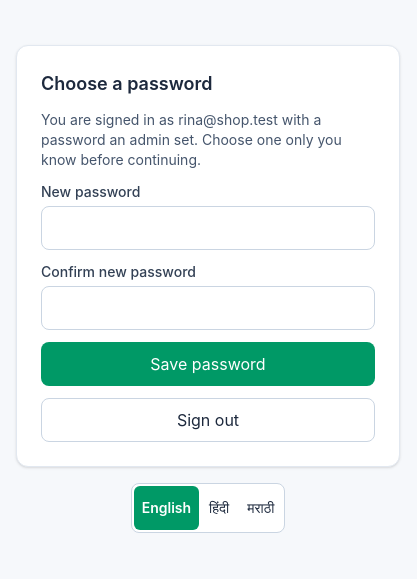
Test: the forced password change › refuses two entries that do not match
Type "sunflower9" into the password field with test id "newpw" at {"x": 208, "y": 228}, box [41,206,375,250]
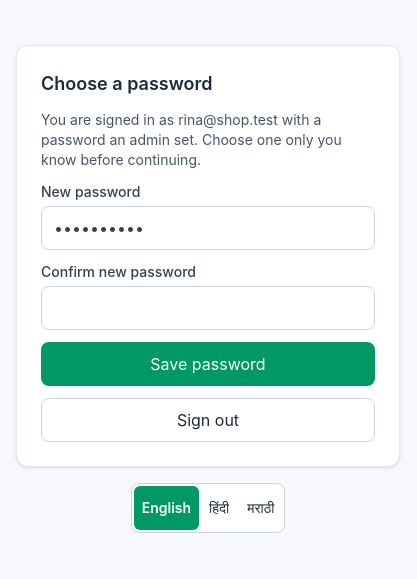
Type "sunflower8" into the password field with test id "newpw-confirm" at {"x": 208, "y": 308}, box [41,286,375,330]
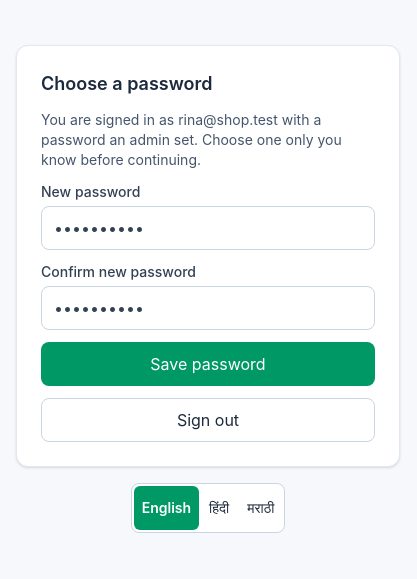
Click the button with test id "newpw-save" at {"x": 208, "y": 364}, box [41,342,375,386]
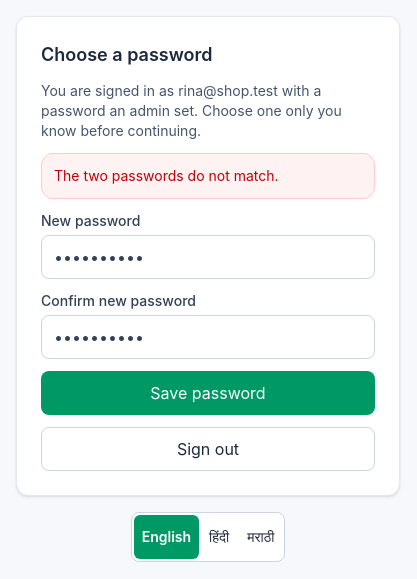
Expected: the text "The two passwords do not match." is shown, [54,167,279,184]
